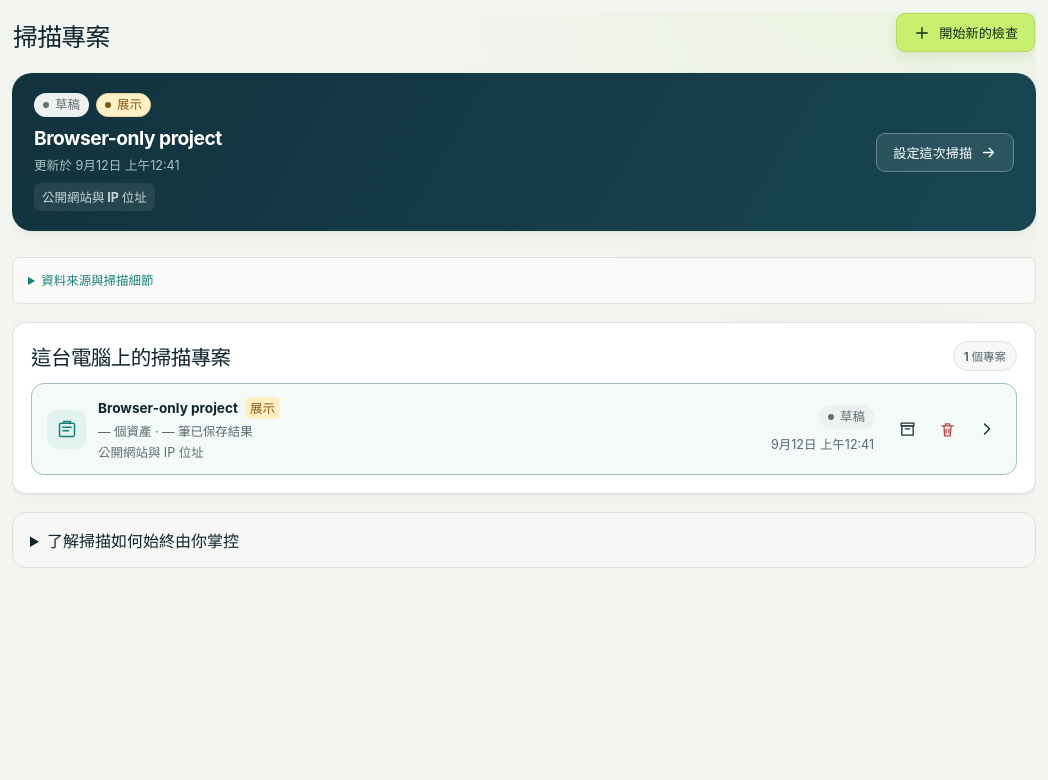
Scenario: a stored browser preview gets truthful localized removal copy in zh-TW
Step 1. Click the button named "開始從這個瀏覽器移除 Browser-only project" → click(947, 429), box [928,410,966,448]
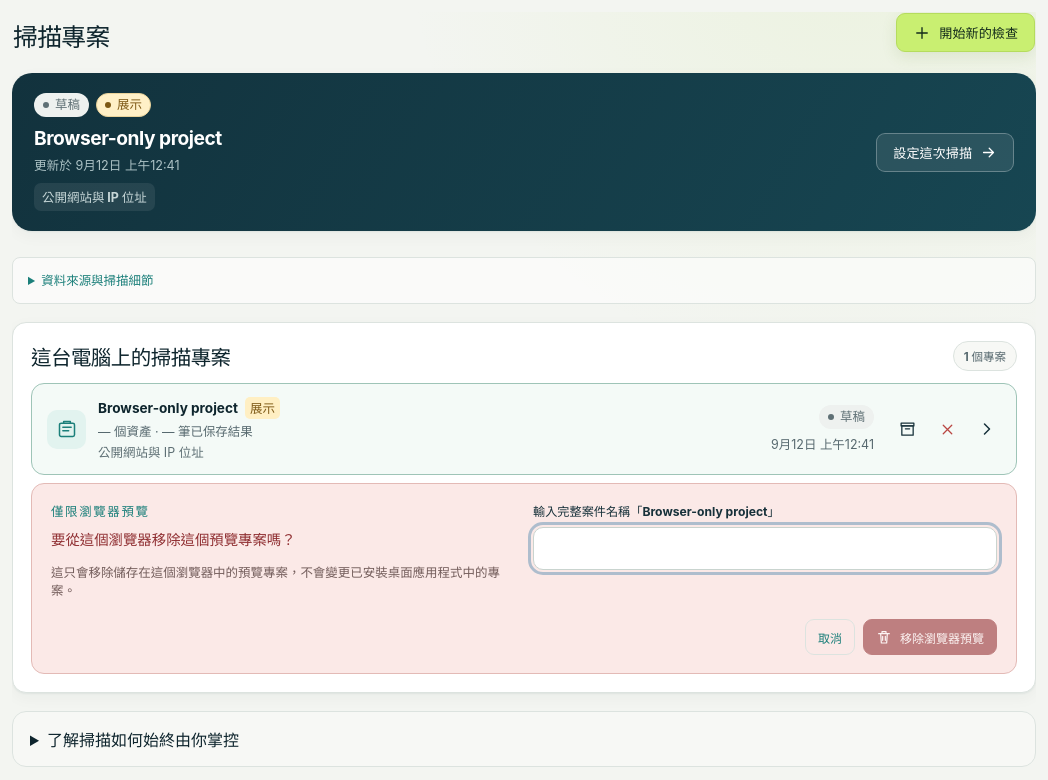
Now the form with class "case-delete-confirmation" is shown, box [31,483,1017,674]
Now the text with class "eyebrow" reads "僅限瀏覽器預覽", box [51,504,150,519]
Now the heading "要從這個瀏覽器移除這個預覽專案嗎？" is shown, box [51,531,296,548]
